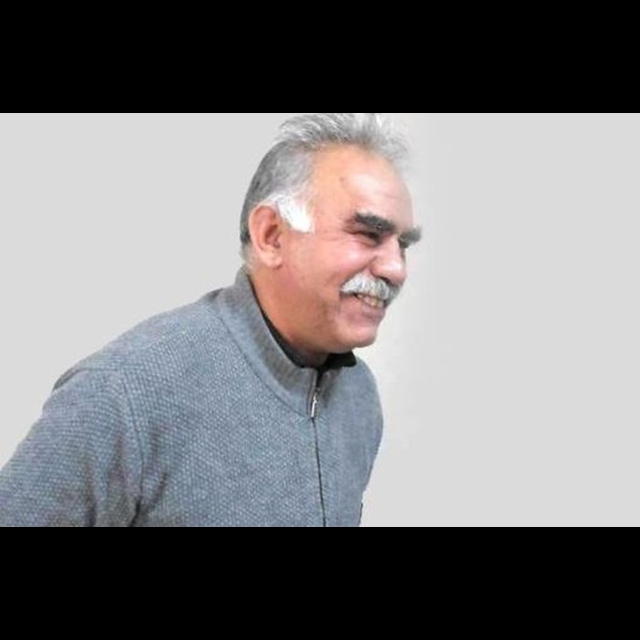APO: (223, 122, 431, 425)
